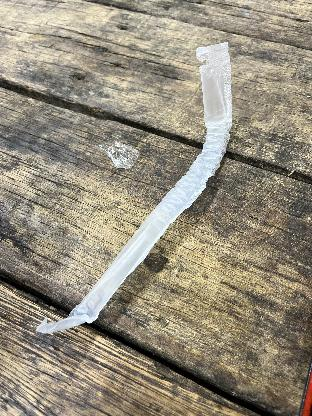Others: (37, 38, 235, 340)
